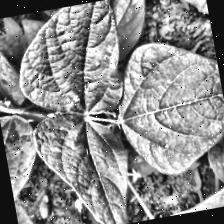Bean Rust: (112, 32, 224, 180), (11, 0, 136, 128), (27, 106, 143, 224), (0, 108, 52, 224)
